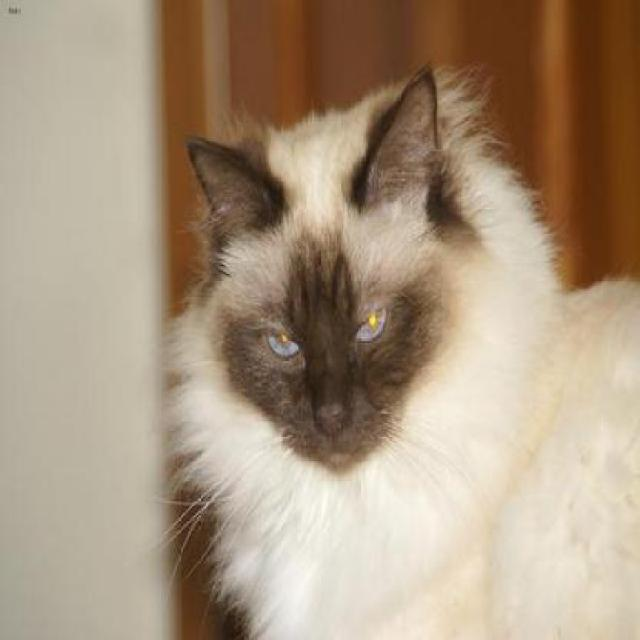cat: (184, 64, 639, 638)
